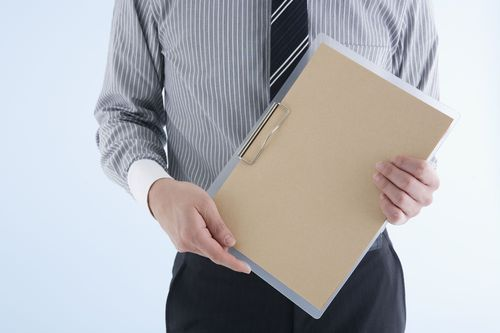no-phone: (148, 175, 309, 277), (355, 141, 441, 226)
